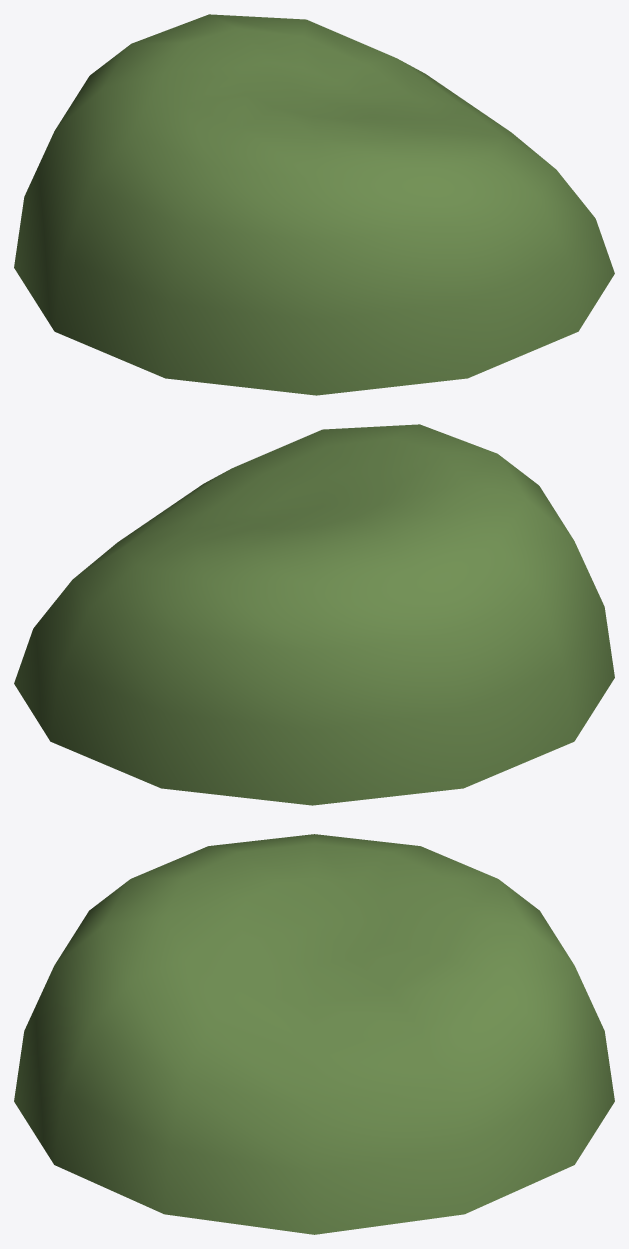
The model's file is Bush_02.fbx.
3 views of the same model, one above another, from view 1: azimuth 30°, elevation 25°; view 2: azimuth 150°, elevation 25°; view 3: azimuth 270°, elevation 25° (orthographic).
Visible parts, largest first — view 1: Bush_02; view 2: Bush_02; view 3: Bush_02.
Part boxes in pixels (x1=…): Bush_02: x1=14, y1=14, x2=614, y2=395; Bush_02: x1=14, y1=424, x2=614, y2=805; Bush_02: x1=14, y1=834, x2=614, y2=1234.
Size of the model in its own units: 150 by 57.19 by 152.
